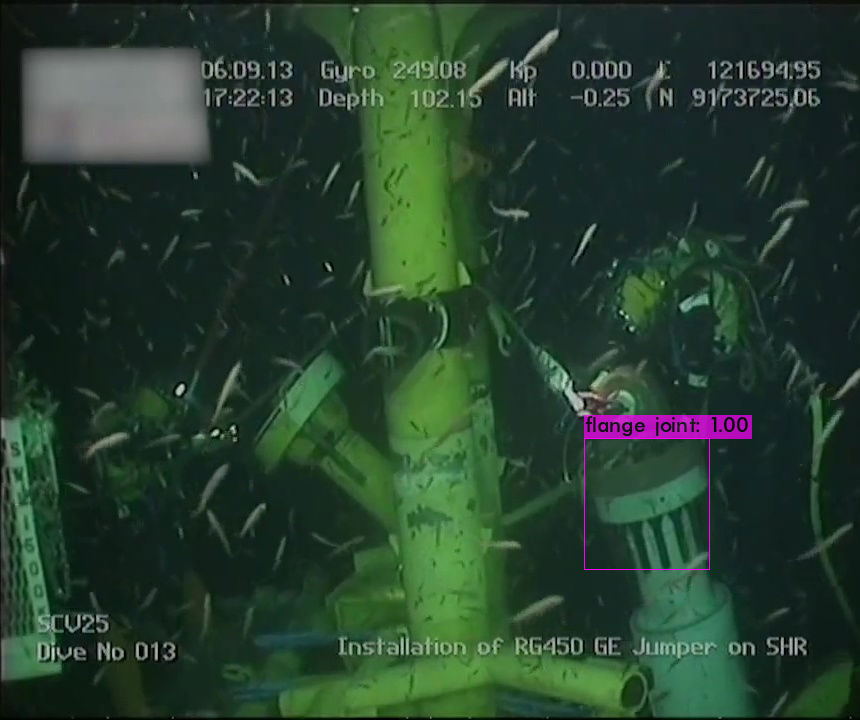flange joint: (586, 434, 710, 566)
